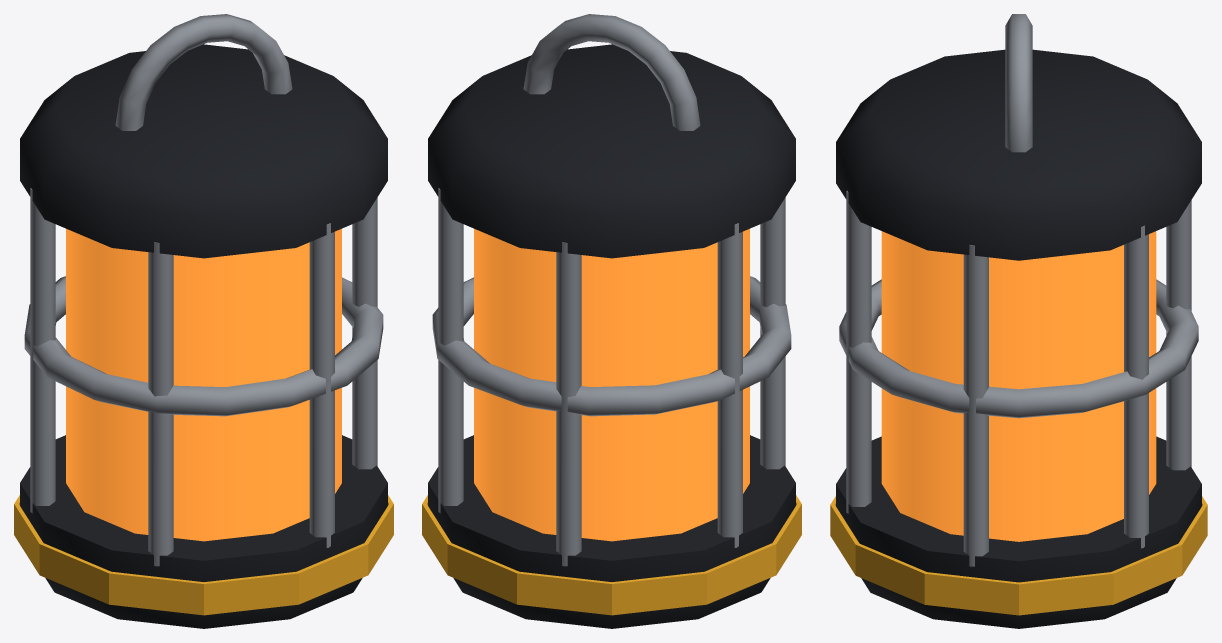
File: core.glb
The picture shows the model from 3 angles, left to right: view 1: azimuth 30°, elevation 25°; view 2: azimuth 150°, elevation 25°; view 3: azimuth 270°, elevation 25°; orthographic projection.
Parts seen in each view (by area): view 1: core_mesh; view 2: core_mesh; view 3: core_mesh.
Part boxes in pixels (bbox=[...]): core_mesh: bbox=[14, 14, 393, 628]; core_mesh: bbox=[422, 14, 801, 628]; core_mesh: bbox=[830, 14, 1207, 628].
Bounding box in the file's own units: 0.66 × 1.03 × 0.66.
